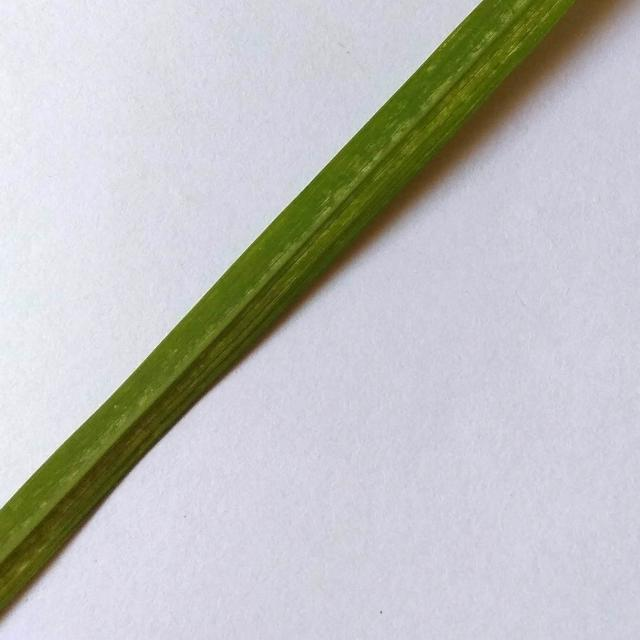Rice_Healthy: (0, 0, 573, 609)
